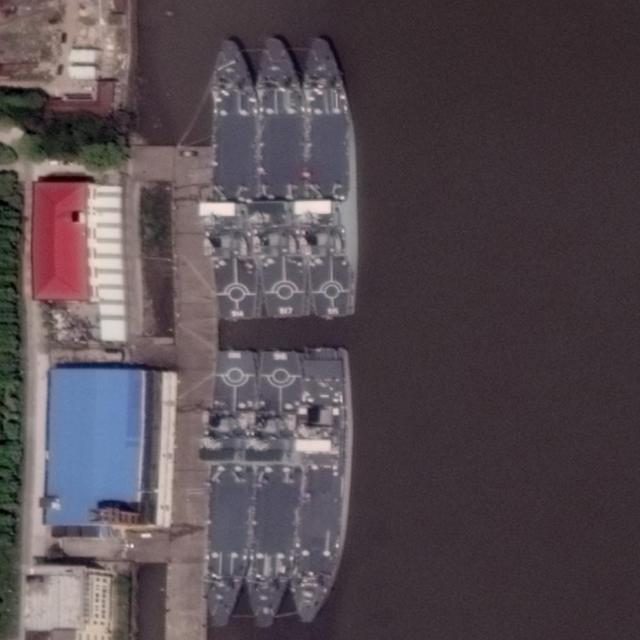Landing: (295, 36, 356, 319), (288, 349, 348, 624), (251, 39, 308, 321), (210, 36, 259, 320), (250, 351, 298, 628), (202, 352, 250, 628)
